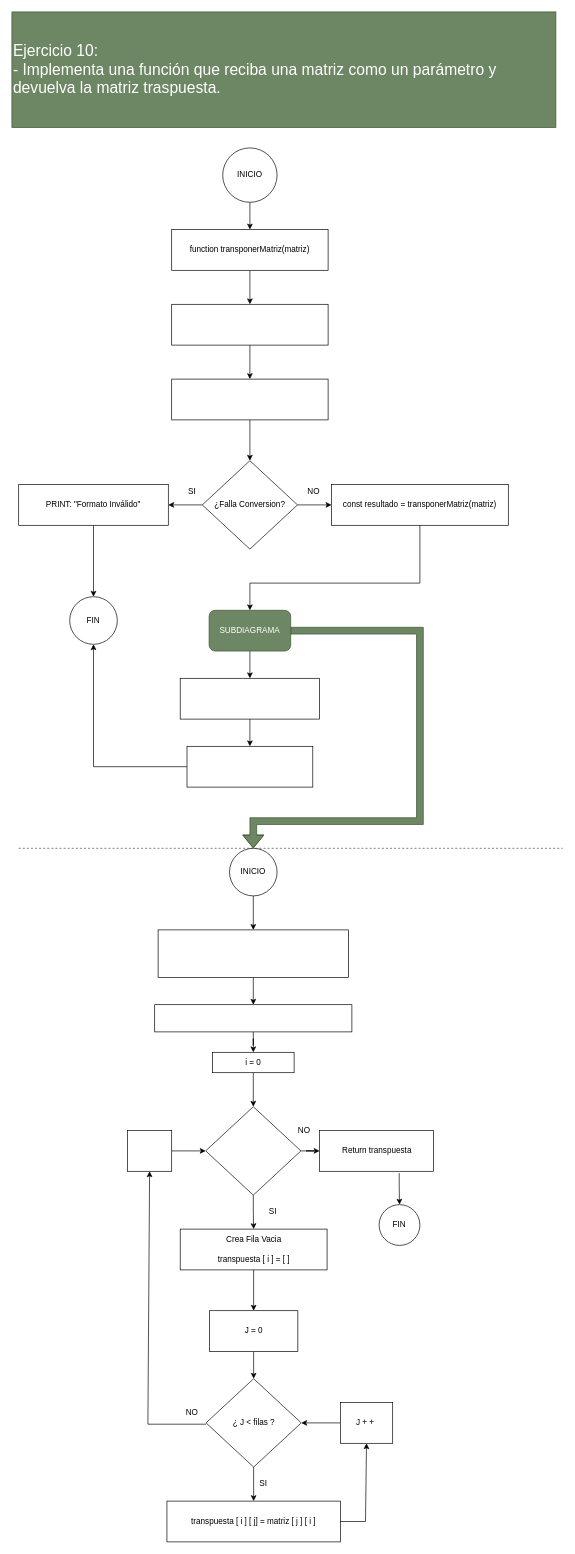
This 575x1554 diagram has some shape labels left out. Here are the shapes that lost their labels. From the top down, the centre of each, then its label:
(x=249, y=324): Leer Entrada const entrada = readline.question(...)
(x=249, y=399): Convertir Texto a Matriz matriz =JSON.parse(entrada)
(x=250, y=698): resultado.map(fila)(...).join()
(x=249, y=766): Print : "Matriz Transpuesta"
(x=252, y=953): const filas = matriz.length const columnas = matriz[0].length
(x=253, y=1018): const transpuesta = []
(x=149, y=1150): i + +
(x=253, y=1150): ¿ i < columnas ?
